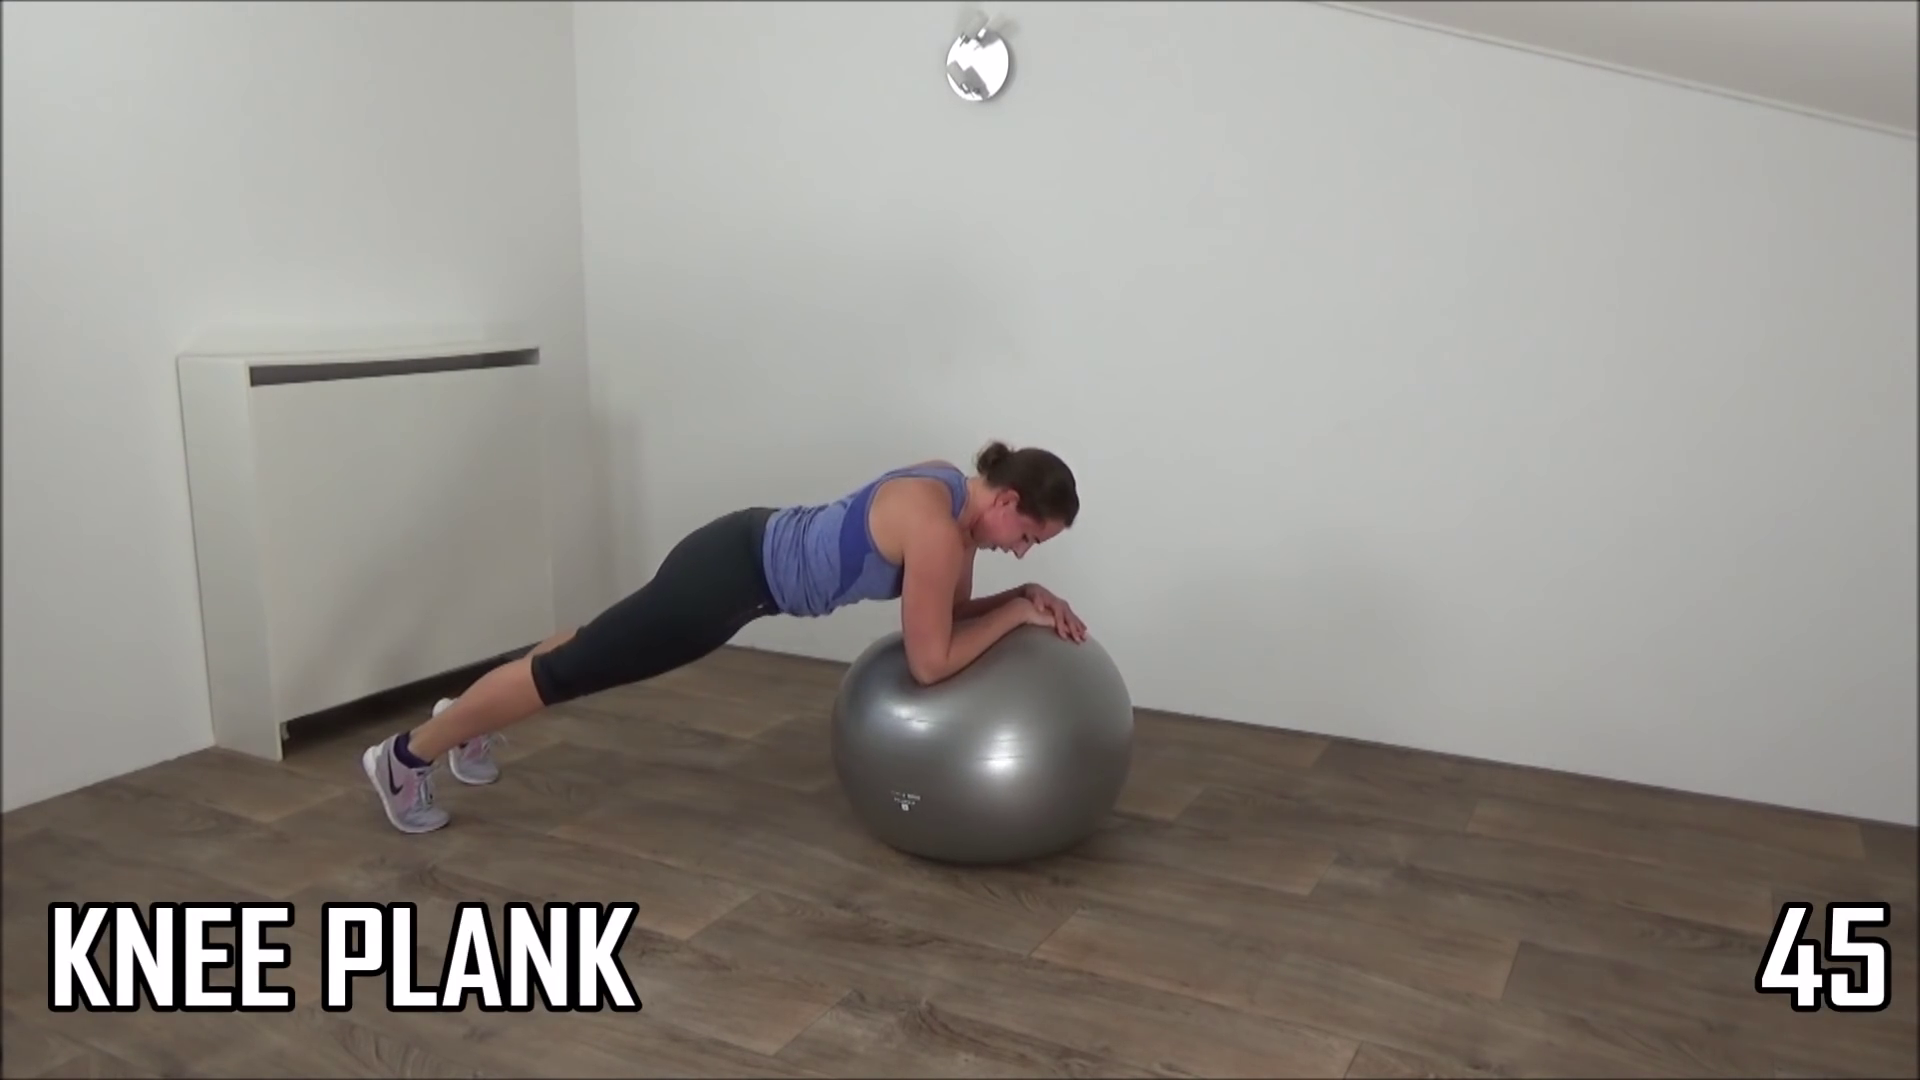yogaball: (816, 616, 1164, 887)
